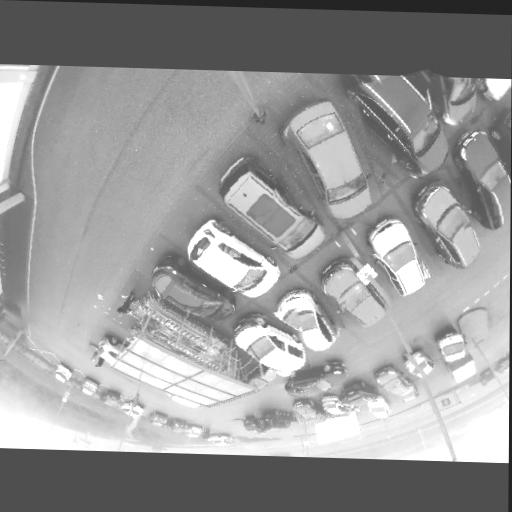busy: (277, 90, 395, 223), (220, 156, 324, 259), (358, 71, 448, 182), (412, 175, 491, 278), (186, 217, 280, 298), (367, 214, 438, 298), (459, 126, 511, 238), (319, 254, 392, 330), (233, 309, 308, 379), (275, 286, 344, 352), (155, 258, 229, 319), (422, 75, 485, 128), (289, 356, 348, 397), (372, 364, 414, 397), (434, 329, 471, 365), (254, 406, 297, 433), (343, 381, 383, 408), (404, 349, 436, 380), (289, 398, 327, 424), (316, 392, 353, 418), (478, 79, 511, 108), (364, 395, 392, 419), (120, 399, 148, 419), (51, 362, 74, 386), (80, 377, 101, 399), (101, 388, 122, 409), (147, 411, 171, 428), (206, 432, 233, 447), (184, 425, 207, 441), (494, 355, 509, 378), (169, 418, 190, 433)
